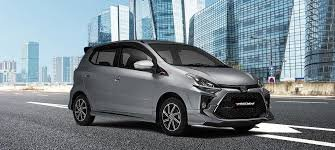mobil: (67, 36, 276, 139)
